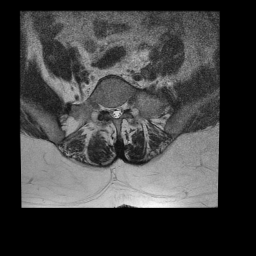CCS_stenosis: (113, 101, 119, 122)
LFS_normal: (123, 95, 128, 118)
LLS_normal: (119, 100, 124, 120)
RFS_stenosis: (102, 98, 107, 118)
RLS_normal: (107, 100, 113, 120)
